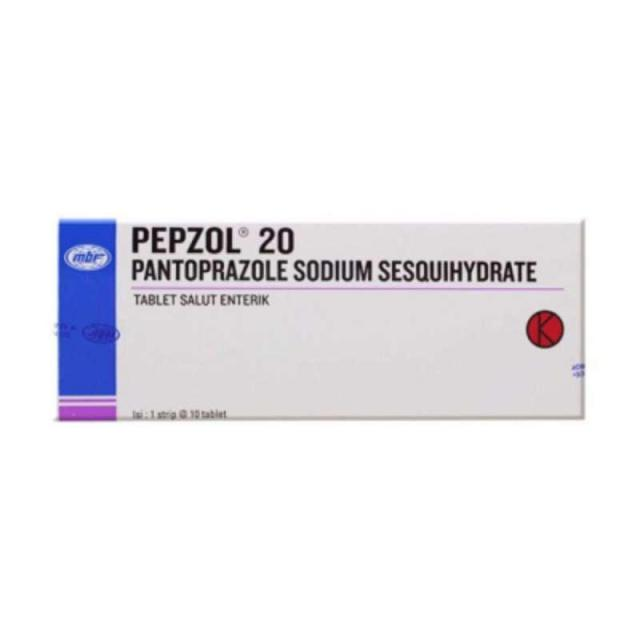drug-name: (126, 220, 296, 255)
